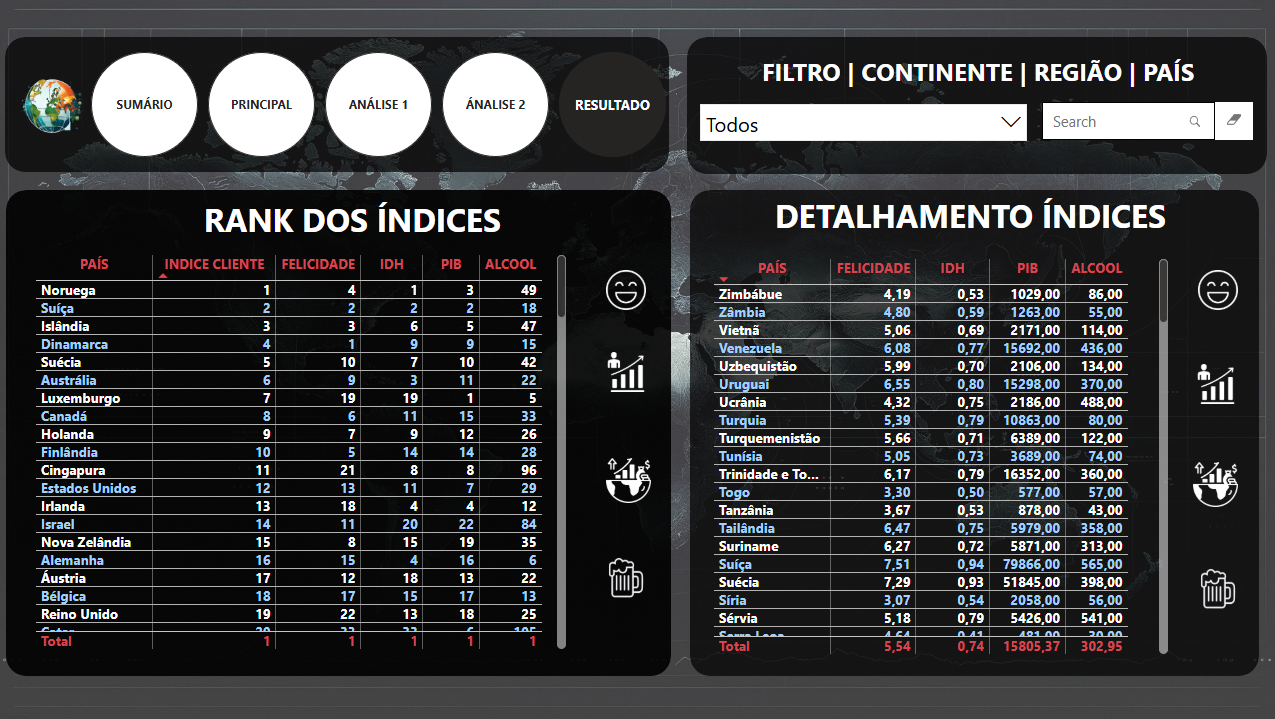

Layout of this report page (visuals, bound fields, positions):
{"tool":"powerbi","page":{"name":"RESULTADO","canvas":[1280,720],"ordinal":4},"visuals":[{"type":"shape","box":[8.6,190.9,665.7,485.8],"z":0},{"type":"shape","box":[692.6,191.1,569,485.8],"z":1000},{"type":"textbox","box":[773.4,189,453.6,62.8],"z":2000},{"type":"tableEx","fields":{"Values":["Felicidade.País","Avg(Felicidade.Felicidade Ajustada)","Avg(Felicidade.IDH ajustado)","Avg(Felicidade.PIB_PerCapita)","Avg(Felicidade.Soma Bebidas)"]},"box":[711.2,255,465,405],"z":3000},{"type":"tableEx","fields":{"Values":["Felicidade.País","Medidas.posicao_indice_cliente_1","Medidas.posicao_felicidade_1","Medidas.posicao_idh_1","Medidas.posicao_pib_1","Medidas.posicao_alcool_1"]},"box":[32.5,251.2,541.2,403.8],"z":4000},{"type":"textbox","box":[192.5,192.5,358.8,62.5],"z":5000},{"type":"shape","box":[8.3,37.9,663.2,135],"z":6000},{"type":"shape","box":[690.5,37.9,579.1,137.4],"z":7000},{"type":"textbox","box":[760.3,50.9,509.3,47.4],"z":8000},{"type":"pageNavigator","box":[93.6,53.3,577.9,104.2],"z":9000},{"type":"image","box":[0,59.2,112.5,100.7],"z":10000},{"type":"slicer","fields":{"Values":["Felicidade.Continente","Felicidade.Região","Felicidade.País"]},"box":[692.8,94.7,347,67.5],"z":11000},{"type":"textFilter25A4896A83E0487089E2B90C9AE57C8A","fields":{"field":["Felicidade.País"]},"box":[1039.8,98.3,221.5,79.3],"z":12000},{"type":"image","box":[1181.2,555,80,80],"z":13000},{"type":"image","box":[1191.2,457.5,55,55],"z":14000},{"type":"image","box":[1193.8,360,50,50],"z":15000},{"type":"image","box":[1196.2,266.2,50,50],"z":16000},{"type":"image","box":[603.8,266.2,50,50],"z":17000},{"type":"image","box":[603.8,347.5,50,50],"z":18000},{"type":"image","box":[603.8,453.8,55,55],"z":19000},{"type":"image","box":[588.8,543.8,80,80],"z":20000}]}

Visuals, with their boxes in screenshot pixels (x1, y1, x2, y2), scaled from the page's 1280x720 canvas onto the 1275x719 screenshot:
shape: [9,191,672,676]
shape: [690,191,1257,676]
textbox: [770,189,1222,251]
tableEx - Felicidade.País x Avg(Felicidade.Felicidade Ajustada): [708,255,1172,659]
tableEx - Felicidade.País x Medidas.posicao_indice_cliente_1: [32,251,571,654]
textbox: [192,192,549,255]
shape: [8,38,669,173]
shape: [688,38,1265,175]
textbox: [757,51,1265,98]
pageNavigator: [93,53,669,157]
image: [0,59,112,160]
slicer - Felicidade.Continente x Felicidade.Região: [690,95,1036,162]
textFilter25A4896A83E0487089E2B90C9AE57C8A - Felicidade.País: [1036,98,1256,177]
image: [1177,554,1256,634]
image: [1187,457,1241,512]
image: [1189,360,1239,409]
image: [1192,266,1241,316]
image: [601,266,651,316]
image: [601,347,651,397]
image: [601,453,656,508]
image: [586,543,666,623]
